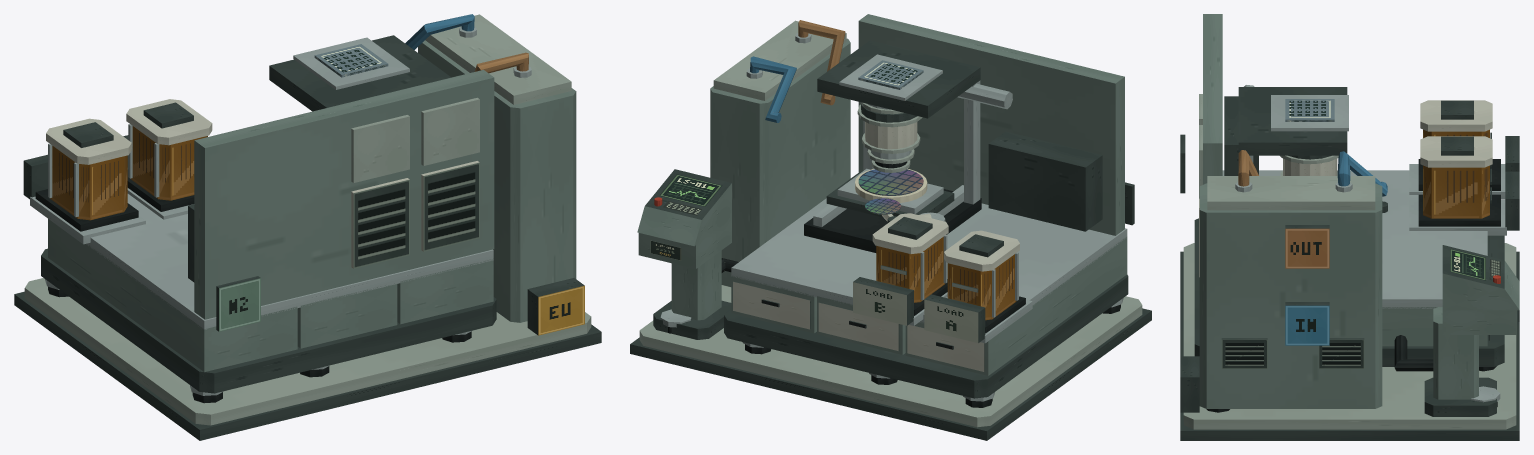
The model's file is lithography_machine_cutaway.obj.
The picture shows the model from 3 angles, left to right: view 1: azimuth 30°, elevation 25°; view 2: azimuth 150°, elevation 25°; view 3: azimuth 270°, elevation 25°; orthographic projection. The views are drawn at different scales.
Parts seen in each view (by area): view 1: chamber_rear, foundation, lower_cabinets, utility_cabinet, rear_service, cassette_a, cassette_b, optical_bridge, load_ports, reticle_stage, eu_input, nitrogen_input (+2 smaller); view 2: foundation, lower_cabinets, utility_cabinet, chamber_rear, optical_feed, optical_bridge, wafer_stage, control_console, load_ports, cassette_a, cassette_b, control_pedestal (+6 smaller); view 3: utility_cabinet, foundation, lower_cabinets, cassette_b, control_console, control_pedestal, optical_bridge, load_ports, chamber_rear, reticle_stage, cassette_a, coolant_input (+10 smaller).
Part boxes in pixels (<box>): chamber_rear: <box>194,69,494,319</box>; foundation: <box>14,248,601,440</box>; lower_cabinets: <box>48,194,493,371</box>; utility_cabinet: <box>418,14,576,322</box>; rear_service: <box>351,97,479,268</box>; cassette_a: <box>46,118,131,220</box>; cassette_b: <box>126,99,212,200</box>; optical_bridge: <box>269,35,451,111</box>; load_ports: <box>23,135,194,244</box>; reticle_stage: <box>293,37,409,89</box>; eu_input: <box>527,278,584,335</box>; nitrogen_input: <box>216,276,260,331</box>; foundation: <box>630,274,1151,440</box>; lower_cabinets: <box>731,198,1127,375</box>; utility_cabinet: <box>710,20,850,286</box>; chamber_rear: <box>858,14,1124,235</box>; optical_feed: <box>957,83,1102,231</box>; optical_bridge: <box>817,40,980,204</box>; wafer_stage: <box>804,168,981,252</box>; control_console: <box>637,169,731,268</box>; load_ports: <box>853,277,1032,343</box>; cassette_a: <box>944,230,1019,320</box>; cassette_b: <box>872,213,948,302</box>; control_pedestal: <box>653,250,731,339</box>; utility_cabinet: <box>1199,176,1382,408</box>; foundation: <box>1180,218,1519,440</box>; lower_cabinets: <box>1222,170,1492,346</box>; cassette_b: <box>1420,136,1492,218</box>; control_console: <box>1442,245,1519,334</box>; control_pedestal: <box>1424,307,1496,416</box>; optical_bridge: <box>1238,87,1347,162</box>; load_ports: <box>1409,136,1519,235</box>; chamber_rear: <box>1203,14,1222,184</box>; reticle_stage: <box>1271,95,1348,131</box>; cassette_a: <box>1420,100,1492,167</box>; coolant_input: <box>1285,302,1329,345</box>.
Size of the model in its own units: 5 by 3.32 by 4.
1 material, 1 textured.
